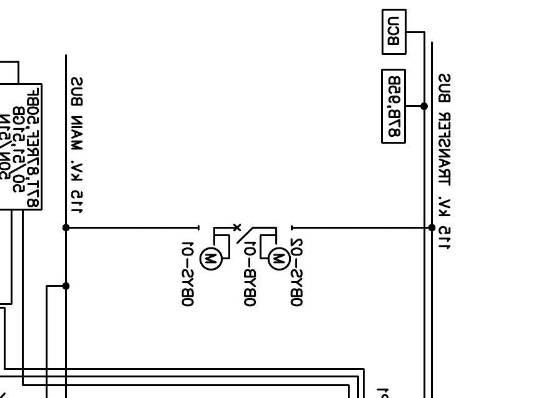115_1way_ds_w_motor: (197, 224, 231, 271), (259, 225, 293, 271)
115_breaker: (233, 223, 254, 244)
BCU: (381, 8, 407, 55)
